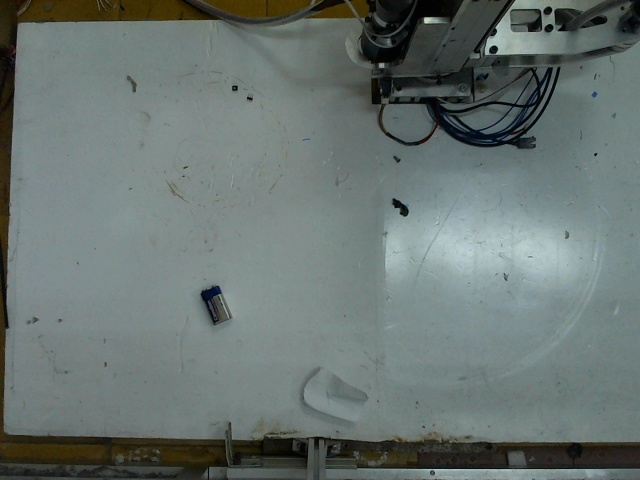battery: (197, 281, 235, 324)
